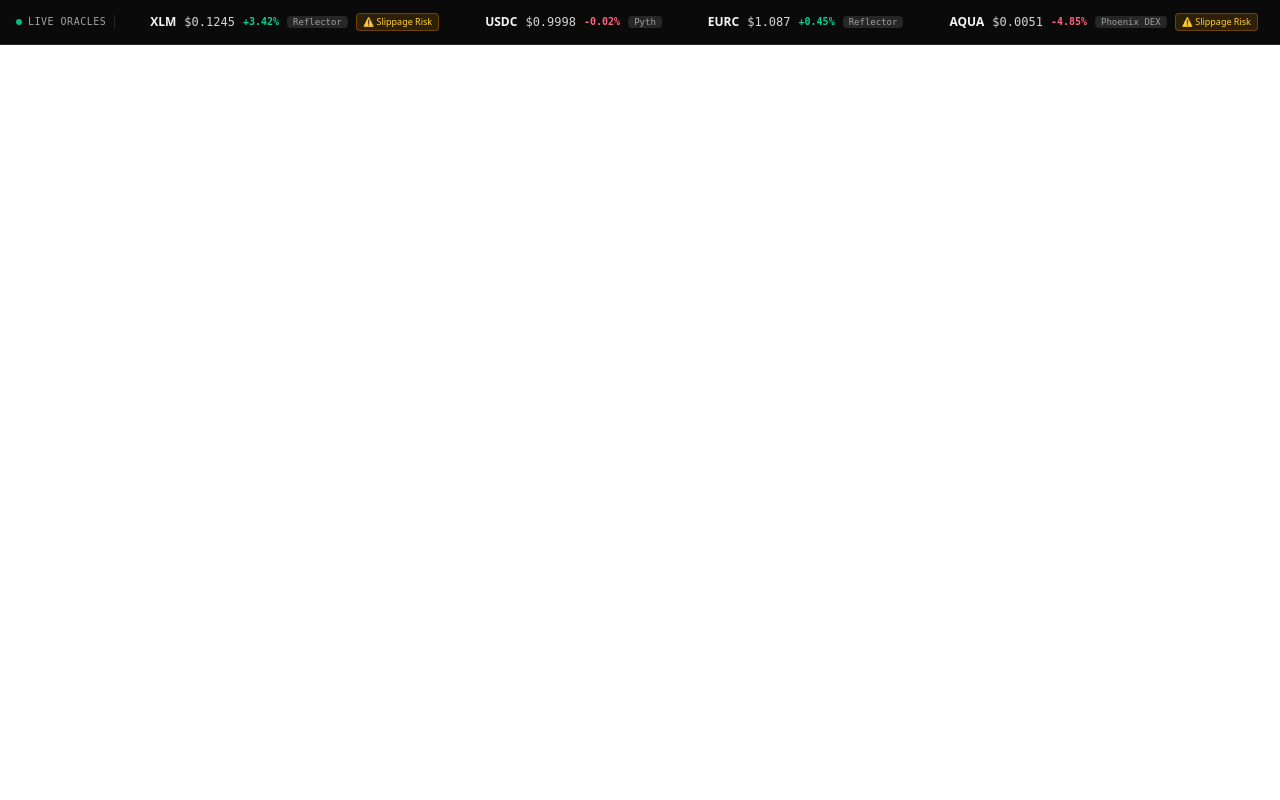
Test case: PriceTicker (Issue #1519) › opens historical chart drawer when token is clicked
Click the button with test id "ticker-item-XLM" at (295, 22), box [139,8,450,36]
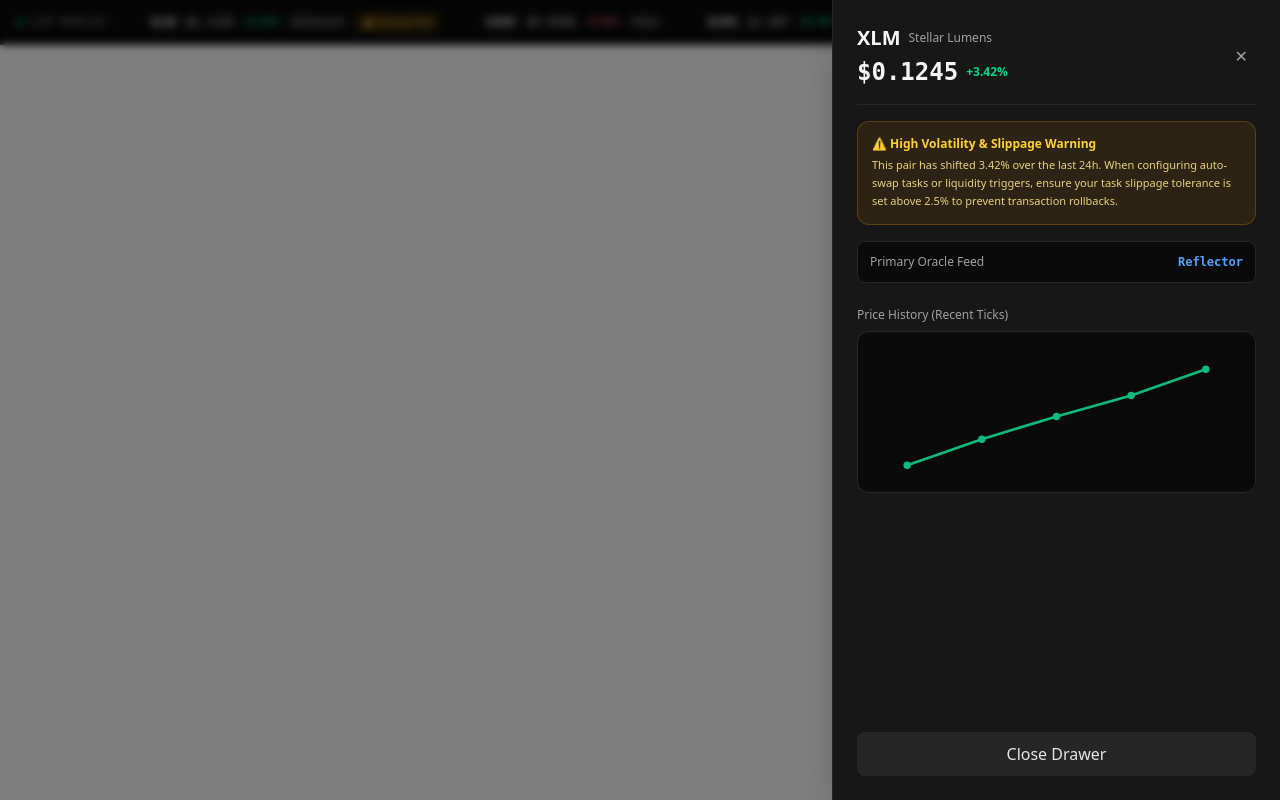
Check: the dialog named "Historical Chart for XLM" is shown
Check: the icon with test id "sparkline-chart" is shown, box [874,348,1239,476]
Check: the text "⚠️ High Volatility & Slippage Warning" is shown, box [872,135,1096,152]
Click the button "Close Drawer" at (1056, 754), box [857,732,1256,776]
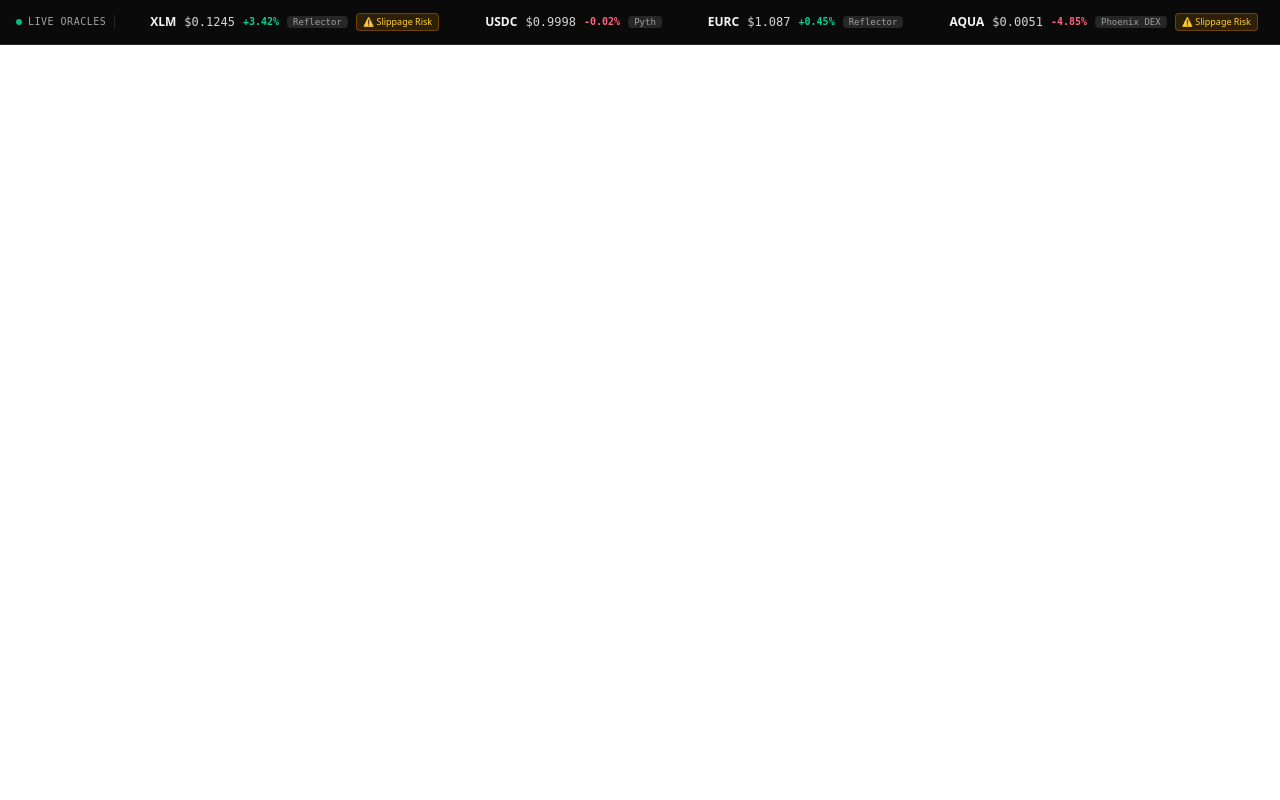
Check: the dialog is gone
